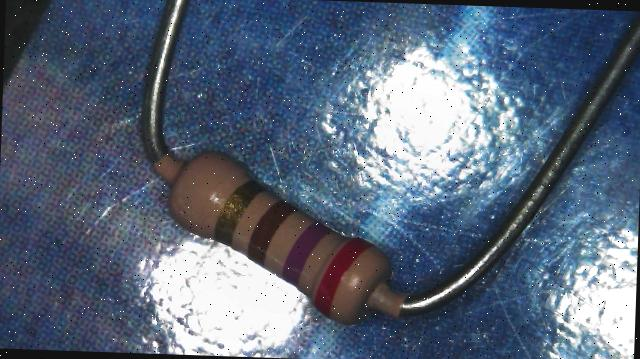brown: (248, 200, 298, 266)
gold: (215, 179, 262, 250)
red: (316, 237, 372, 319)
resistor: (136, 119, 423, 349)
violet: (280, 221, 332, 286)
